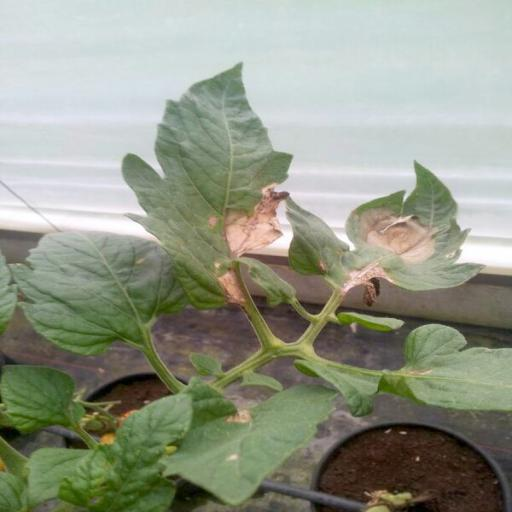Late Blight: (122, 63, 300, 307), (338, 158, 485, 294)
